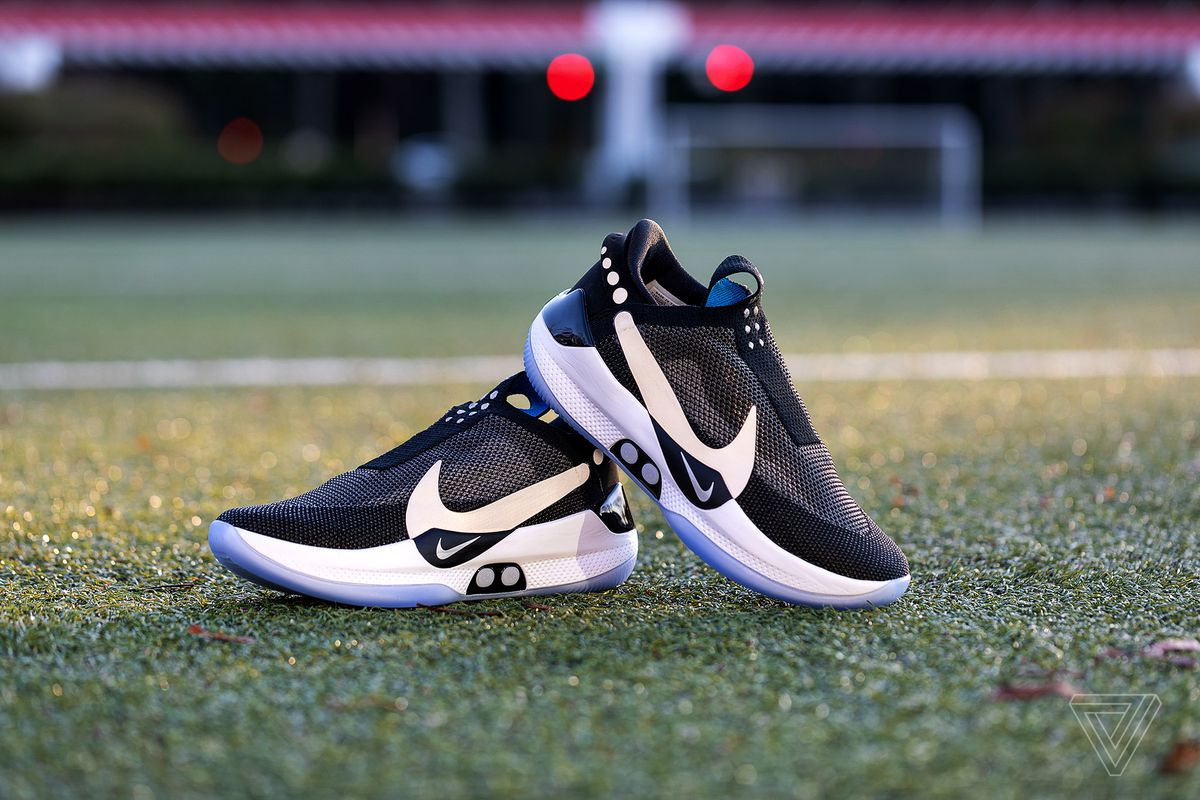shoes: (515, 202, 921, 616), (197, 351, 640, 625)
